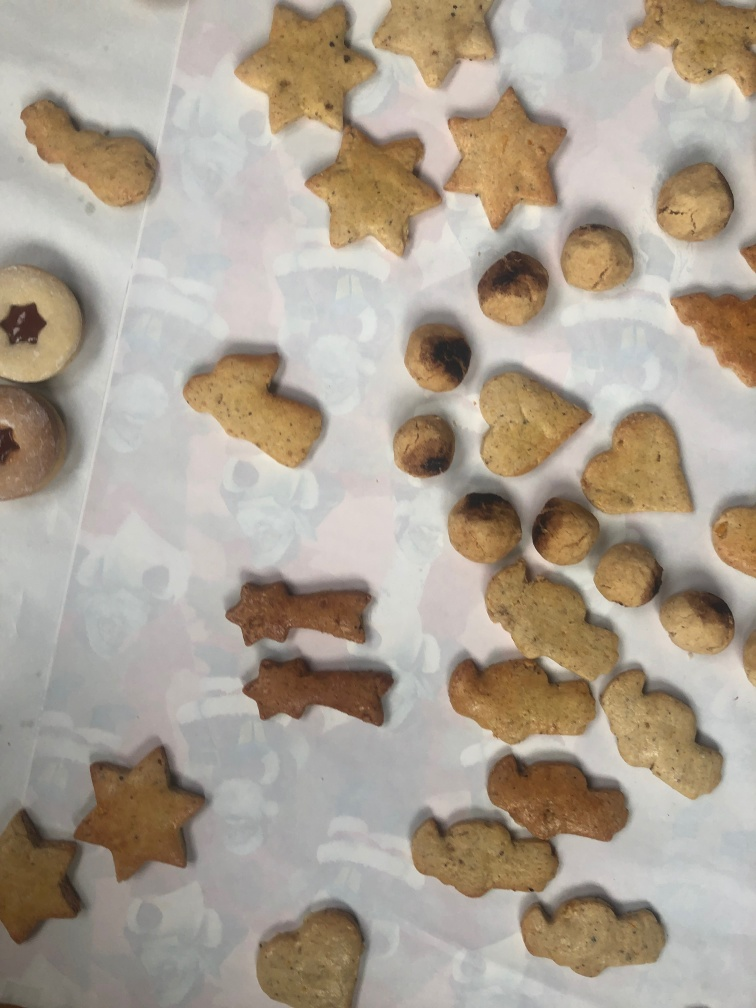angel: (177, 344, 333, 468)
christmas shortbread with jam: (5, 255, 87, 384), (4, 384, 64, 507)
christmas tree: (667, 275, 756, 388)
heart: (576, 398, 698, 518), (475, 356, 589, 484), (252, 901, 370, 1007)
santa claus: (599, 657, 734, 801), (481, 555, 623, 687), (479, 746, 635, 851), (444, 648, 609, 745), (617, 2, 756, 113), (407, 803, 558, 905), (516, 885, 670, 985)
shooting star: (227, 562, 384, 646), (241, 646, 399, 729)
snowball: (654, 159, 737, 249), (441, 481, 524, 565), (475, 245, 554, 329), (660, 584, 742, 663), (398, 316, 477, 395), (556, 220, 638, 295), (591, 532, 659, 618), (533, 495, 600, 569), (393, 410, 455, 476)
snowman: (19, 85, 172, 209)
star: (73, 735, 219, 884), (302, 112, 445, 260), (441, 84, 578, 229), (234, 4, 380, 138), (4, 800, 91, 945), (374, 1, 509, 90)
